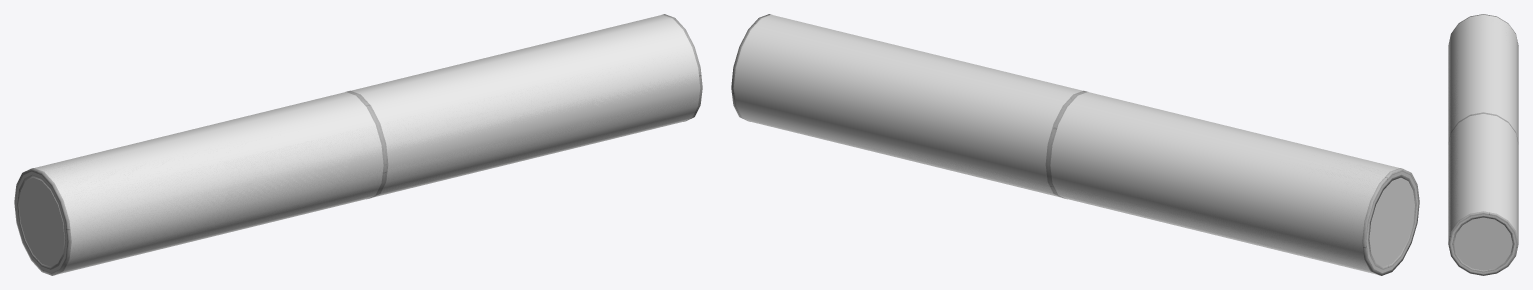
File: s_gm_pipe_concrete_d60.dae
3 renders of one model, left to right at view 1: azimuth 30°, elevation 25°; view 2: azimuth 150°, elevation 25°; view 3: azimuth 270°, elevation 25°, orthographic. The views are drawn at different scales.
Visible parts, largest first — view 1: concrete_pipe_d60_a25, Colmesh_concrete_pipe_d60-1, concrete_pipe_d60_a50, concrete_pipe_d60_a100; view 2: Colmesh_concrete_pipe_d60-1, concrete_pipe_d60_a25, concrete_pipe_d60_a50, concrete_pipe_d60_a100; view 3: Colmesh_concrete_pipe_d60-1, concrete_pipe_d60_a25, concrete_pipe_d60_a50, concrete_pipe_d60_a100.
Part boxes in pixels (x1,y1,x2,y2): concrete_pipe_d60_a25: [17, 14, 699, 270]; Colmesh_concrete_pipe_d60-1: [24, 15, 690, 274]; concrete_pipe_d60_a50: [15, 15, 700, 272]; concrete_pipe_d60_a100: [14, 14, 702, 275]; Colmesh_concrete_pipe_d60-1: [735, 15, 1410, 265]; concrete_pipe_d60_a25: [733, 14, 1414, 274]; concrete_pipe_d60_a50: [734, 16, 1418, 272]; concrete_pipe_d60_a100: [731, 14, 1419, 275]; Colmesh_concrete_pipe_d60-1: [1448, 15, 1518, 272]; concrete_pipe_d60_a25: [1448, 14, 1518, 241]; concrete_pipe_d60_a50: [1448, 15, 1518, 274]; concrete_pipe_d60_a100: [1448, 14, 1518, 275].
Bounding box in the file's own units: 4.01 × 0.6023 × 0.6023.
